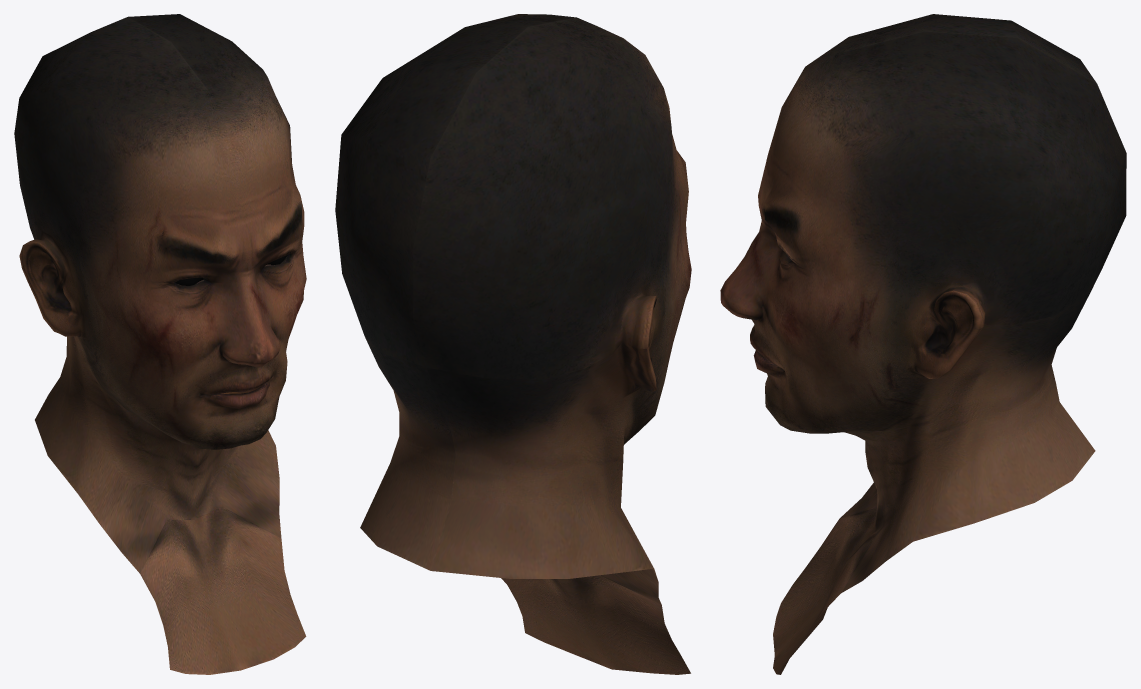
Rendered from head.obj.
The picture shows the model from 3 angles, left to right: view 1: azimuth 30°, elevation 25°; view 2: azimuth 150°, elevation 25°; view 3: azimuth 270°, elevation 25°; orthographic projection. The views are drawn at different scales.
Visible parts, largest first — view 1: Binh_uv_HEADusOBJexport1; view 2: Binh_uv_HEADusOBJexport1; view 3: Binh_uv_HEADusOBJexport1.
Boxes of the visible parts, x1,y1,x2,y2 form: Binh_uv_HEADusOBJexport1: (14, 14, 306, 674); Binh_uv_HEADusOBJexport1: (335, 14, 691, 674); Binh_uv_HEADusOBJexport1: (720, 14, 1126, 674).
Size of the model in its own units: 19.22 by 42.23 by 24.92.
Materials: 2 (1 with a texture image).
